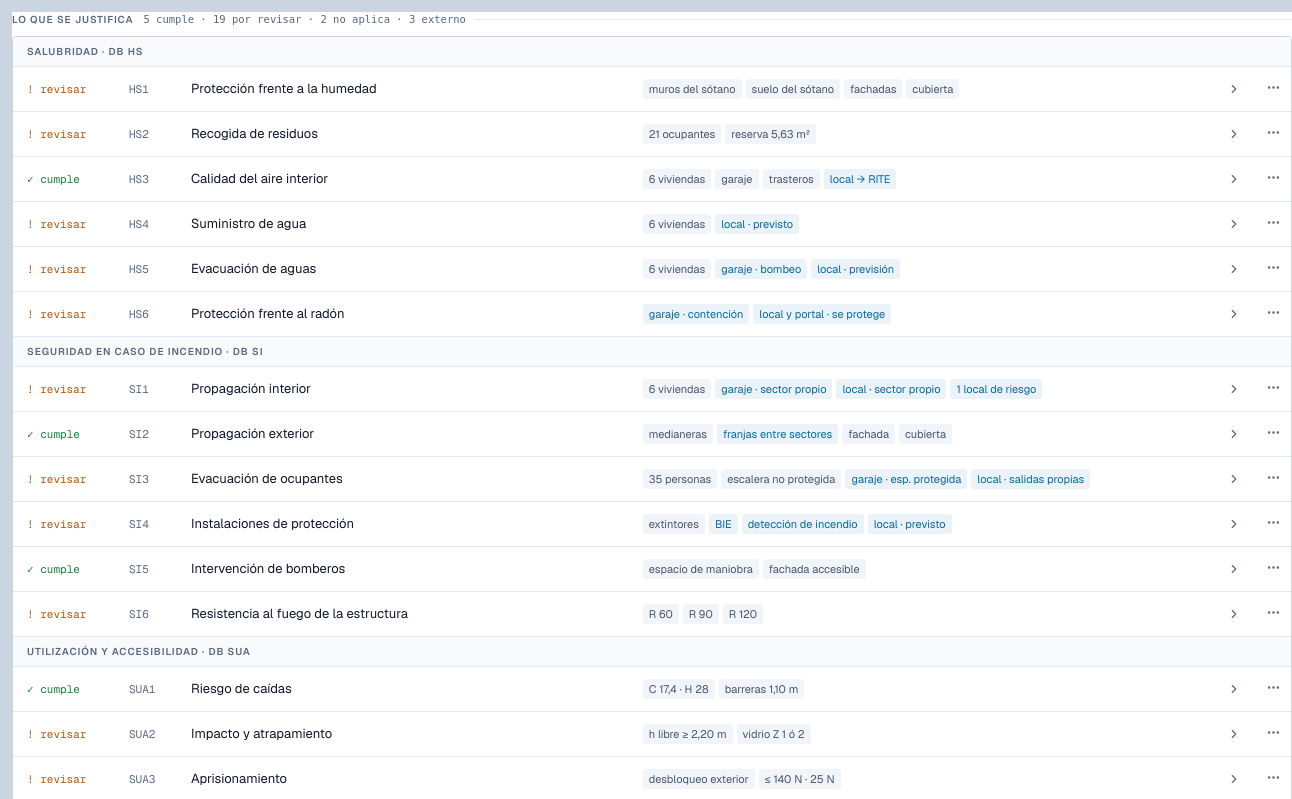
Test: Lo que se justifica › menú ⋯ de aplicabilidad › forzar «no aplica» pide el párrafo, saca la fila de su estado y la marca como forzada
The width and height of the screenshot is (1292, 799).
Click the button named "Opciones de aplicabilidad de HS6" at x=1273, y=312, box [1262,301,1284,324]
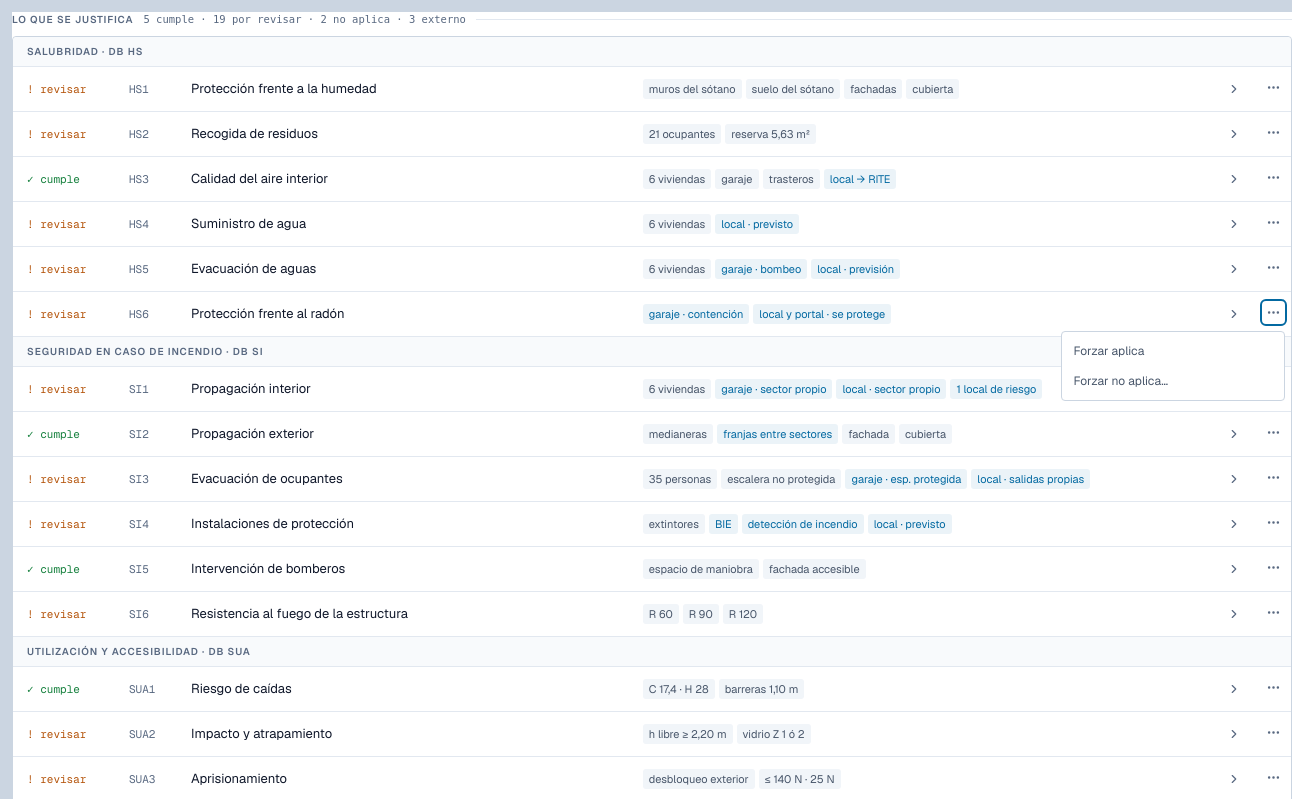
Click the menu item "Forzar no aplica…" at x=1172, y=381, box [1062,366,1284,396]
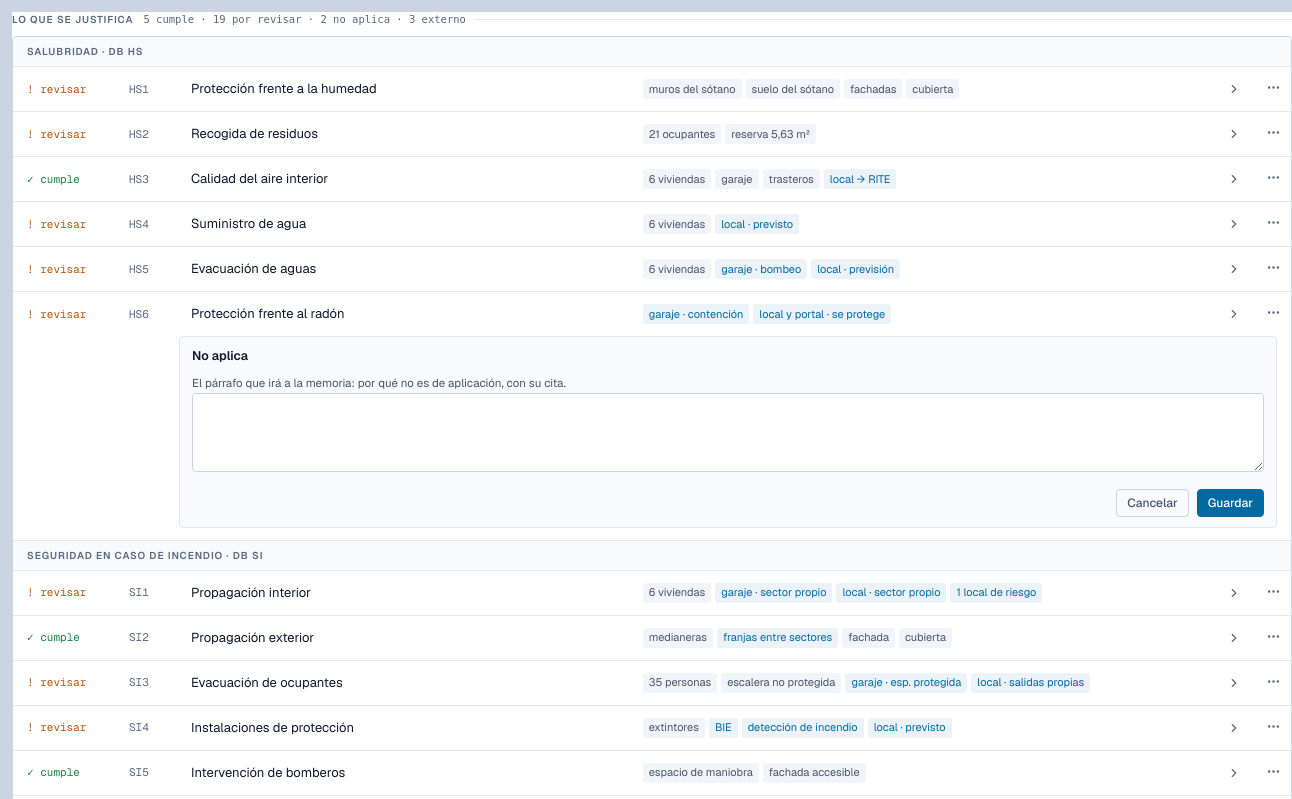
Type "Lo justifica el acústico" into the text box at x=728, y=432, box [192,393,1264,472]
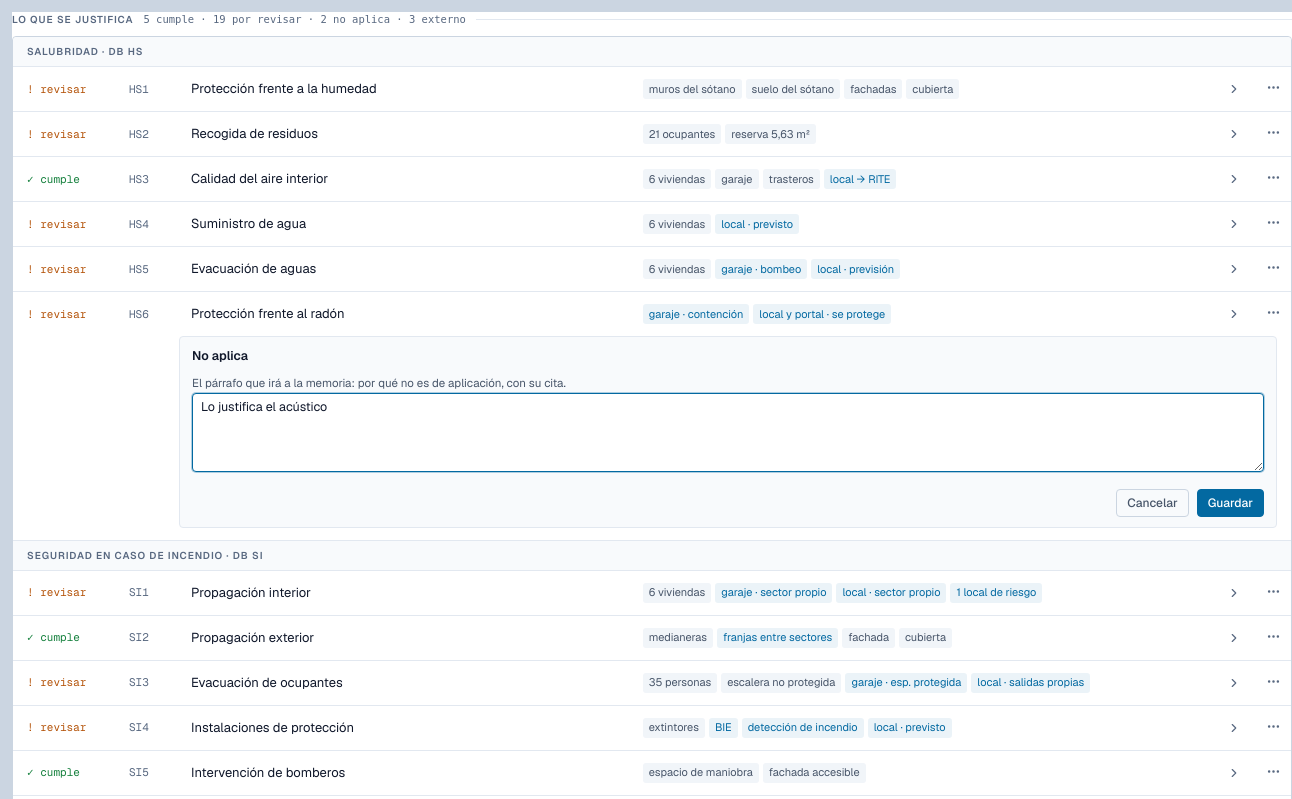
Click the button "Guardar" at x=1230, y=502, box [1197,488,1264,516]
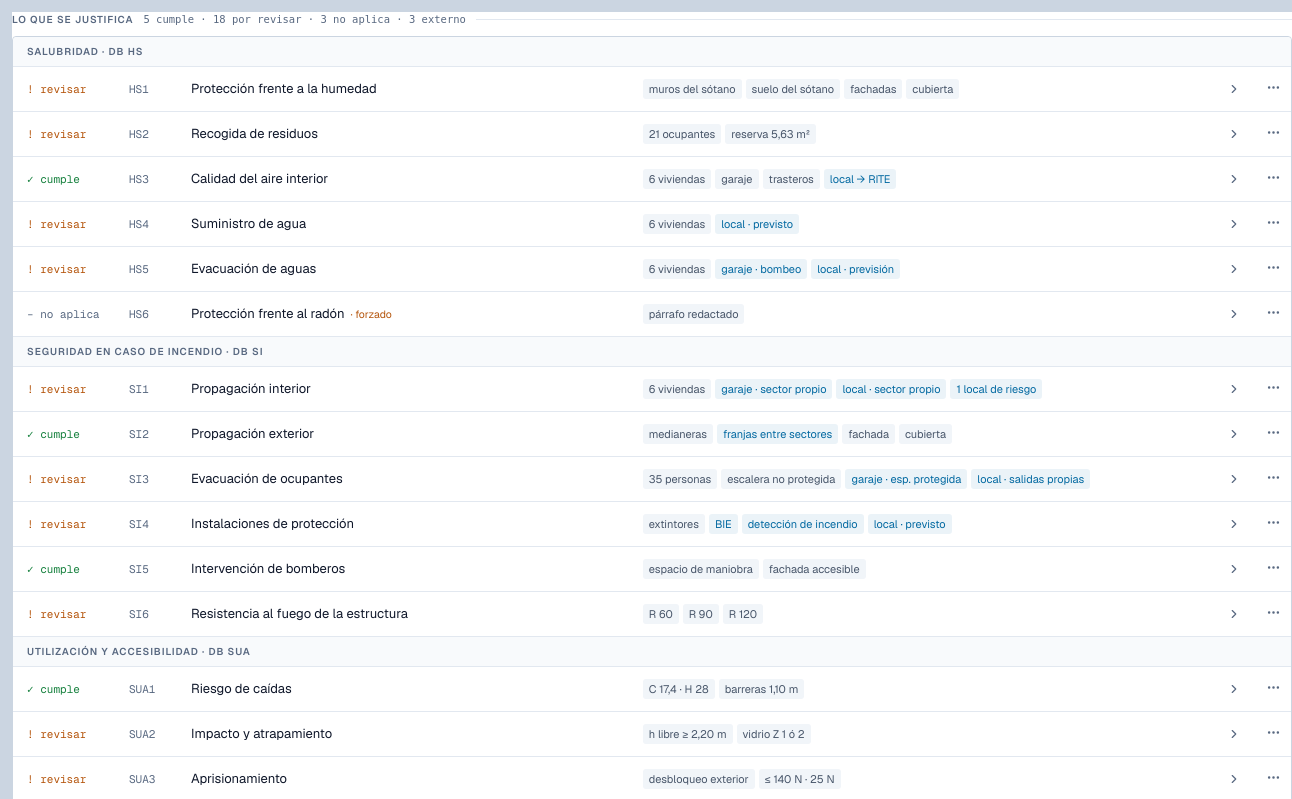
Check: the text "no aplica" is shown, box [40,306,100,320]
Check: the text "· forzado" is shown, box [350,307,392,321]
Click the button that starts with "no aplica" at x=70, y=314, box [13,292,1255,336]
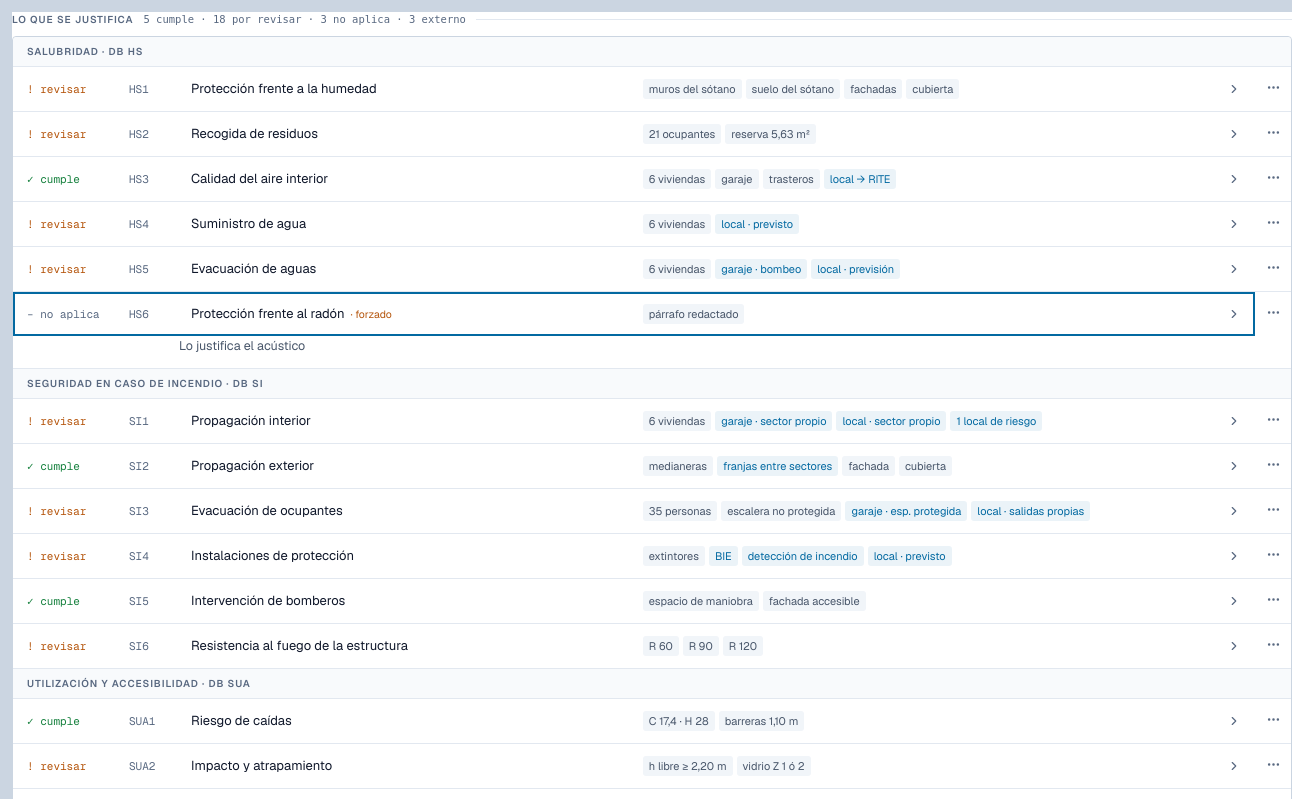
Check: the text "Lo justifica el acústico" is shown, box [179,337,305,354]
